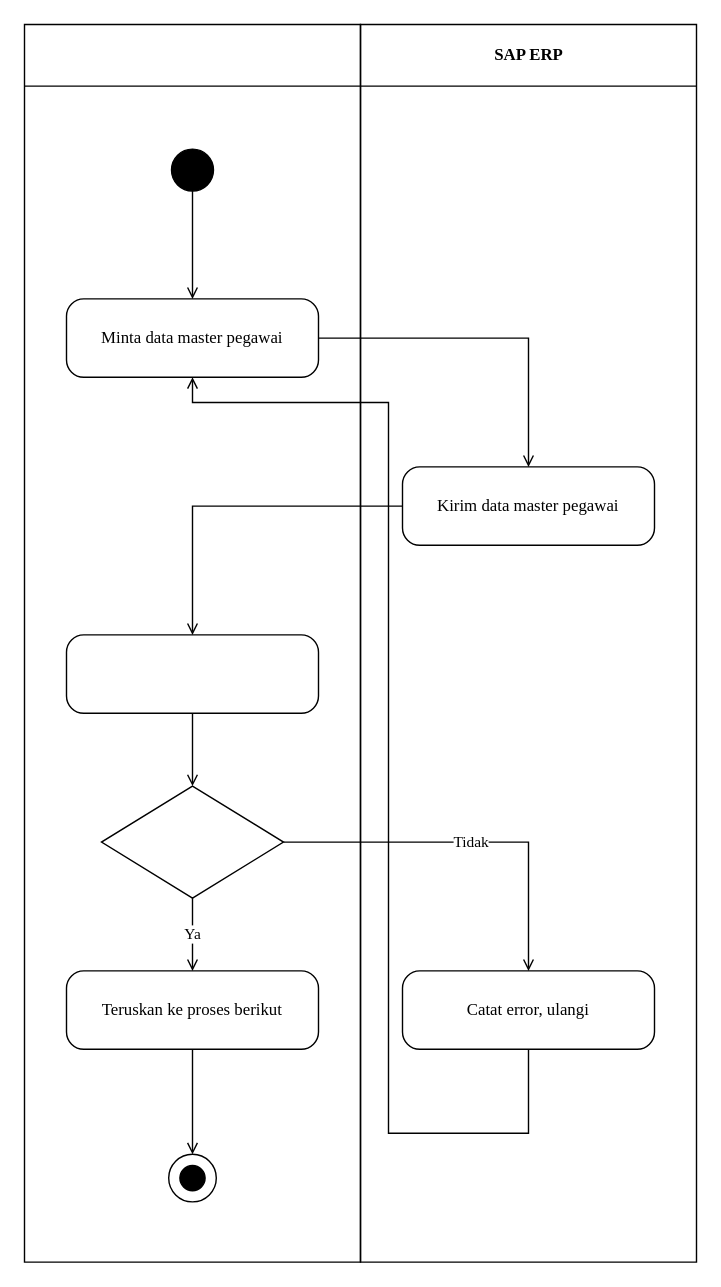
Image size: 721x1287. Some labels were removed from this diagram. The box of each missing label's shape, as (x1, y1, x2, y2) in pixels:
Lengkap?: (100, 785, 284, 898)
SIMO: (23, 23, 360, 1262)
Terima dan tampung data: (65, 634, 318, 713)
